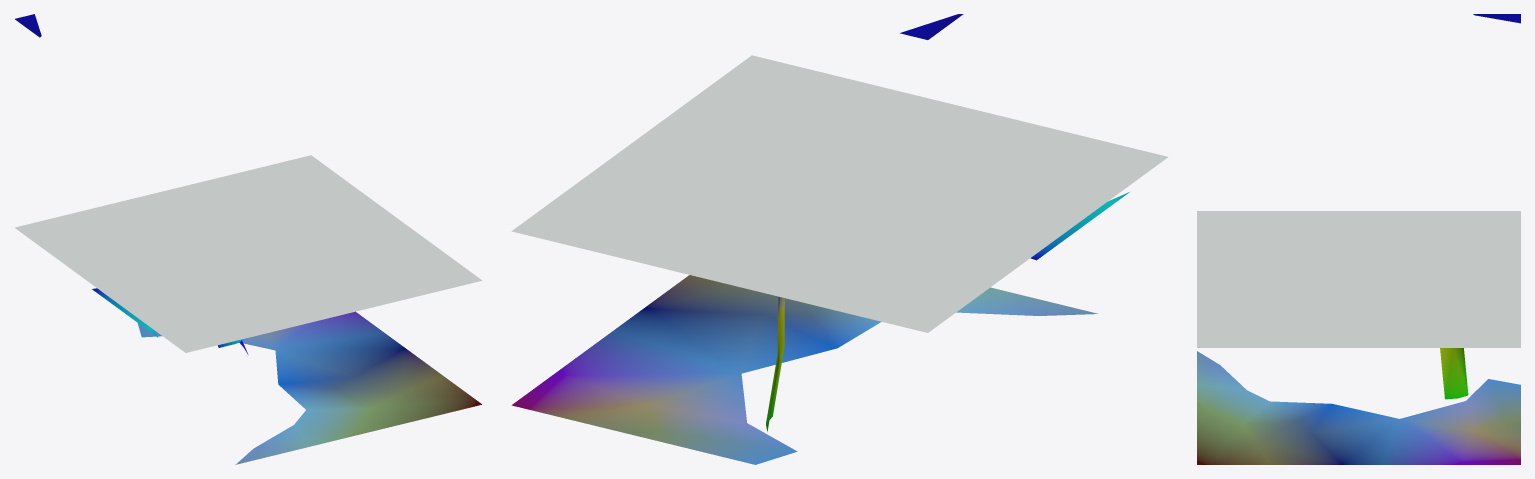
The picture shows the model from 3 angles, left to right: view 1: azimuth 30°, elevation 25°; view 2: azimuth 150°, elevation 25°; view 3: azimuth 270°, elevation 25°; orthographic projection. The views are drawn at different scales.
Visible parts, largest first — view 1: G:\FFXIV-MapTools\exports\w1f5\bg\ffxiv\wil_w1\fld\w1f5\bgpl (×2); view 2: G:\FFXIV-MapTools\exports\w1f5\bg\ffxiv\wil_w1\fld\w1f5\bgpl (×2); view 3: G:\FFXIV-MapTools\exports\w1f5\bg\ffxiv\wil_w1\fld\w1f5\bgpl (×2).
Part boxes in pixels (x1,y1,x2,y2): G:\FFXIV-MapTools\exports\w1f5\bg\ffxiv\wil_w1\fld\w1f5\bgpl (×2): (15, 14, 481, 464); G:\FFXIV-MapTools\exports\w1f5\bg\ffxiv\wil_w1\fld\w1f5\bgpl (×2): (511, 14, 1167, 464); G:\FFXIV-MapTools\exports\w1f5\bg\ffxiv\wil_w1\fld\w1f5\bgpl (×2): (1197, 14, 1520, 464).
Bounding box in the file's own units: 128 × 138 × 128.
